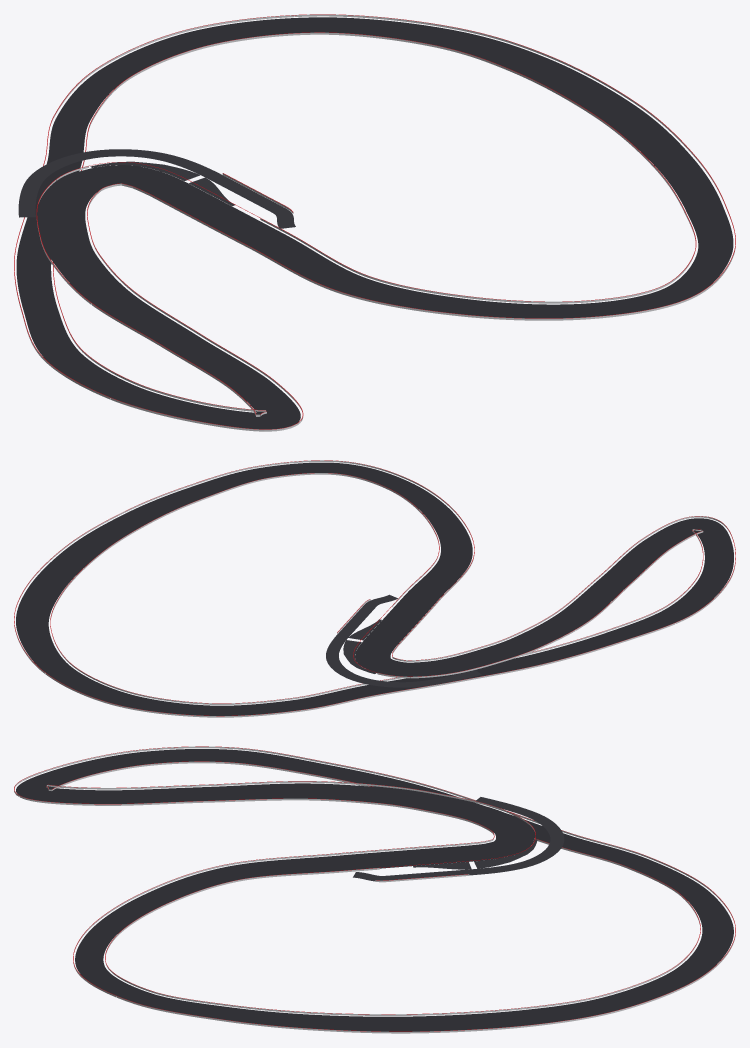
The model's file is interlagos.glb.
3 renders of one model, top to bottom at view 1: azimuth 30°, elevation 25°; view 2: azimuth 150°, elevation 25°; view 3: azimuth 270°, elevation 25°, orthographic. The views are drawn at different scales.
Parts seen in each view (by area): view 1: asphalt, tecpro_left, tecpro_right, pitAsphalt, tecproCap_left, tecproCap_right; view 2: asphalt, tecpro_left, tecpro_right, pitAsphalt, tecproCap_left, tecproCap_right; view 3: asphalt, tecpro_left, tecpro_right, pitAsphalt, tecproCap_left, tecproCap_right.
Part boxes in pixels (x1,y1,x2,y2): asphalt: [16, 17, 733, 429]; tecpro_left: [14, 14, 735, 431]; tecpro_right: [37, 32, 695, 416]; pitAsphalt: [18, 149, 295, 228]; tecproCap_left: [14, 14, 735, 429]; tecproCap_right: [36, 32, 696, 414]; asphalt: [16, 462, 733, 715]; tecpro_left: [14, 460, 735, 717]; tecpro_right: [51, 473, 703, 704]; pitAsphalt: [326, 594, 481, 687]; tecproCap_left: [14, 460, 735, 716]; tecproCap_right: [50, 473, 703, 703]; asphalt: [16, 749, 733, 1031]; tecpro_left: [14, 746, 735, 1033]; tecpro_right: [46, 761, 700, 1015]; pitAsphalt: [353, 797, 564, 881]; tecproCap_left: [14, 746, 735, 1031]; tecproCap_right: [46, 761, 700, 1014].
Size of the model in its own units: 458 by 6.03 by 491.
